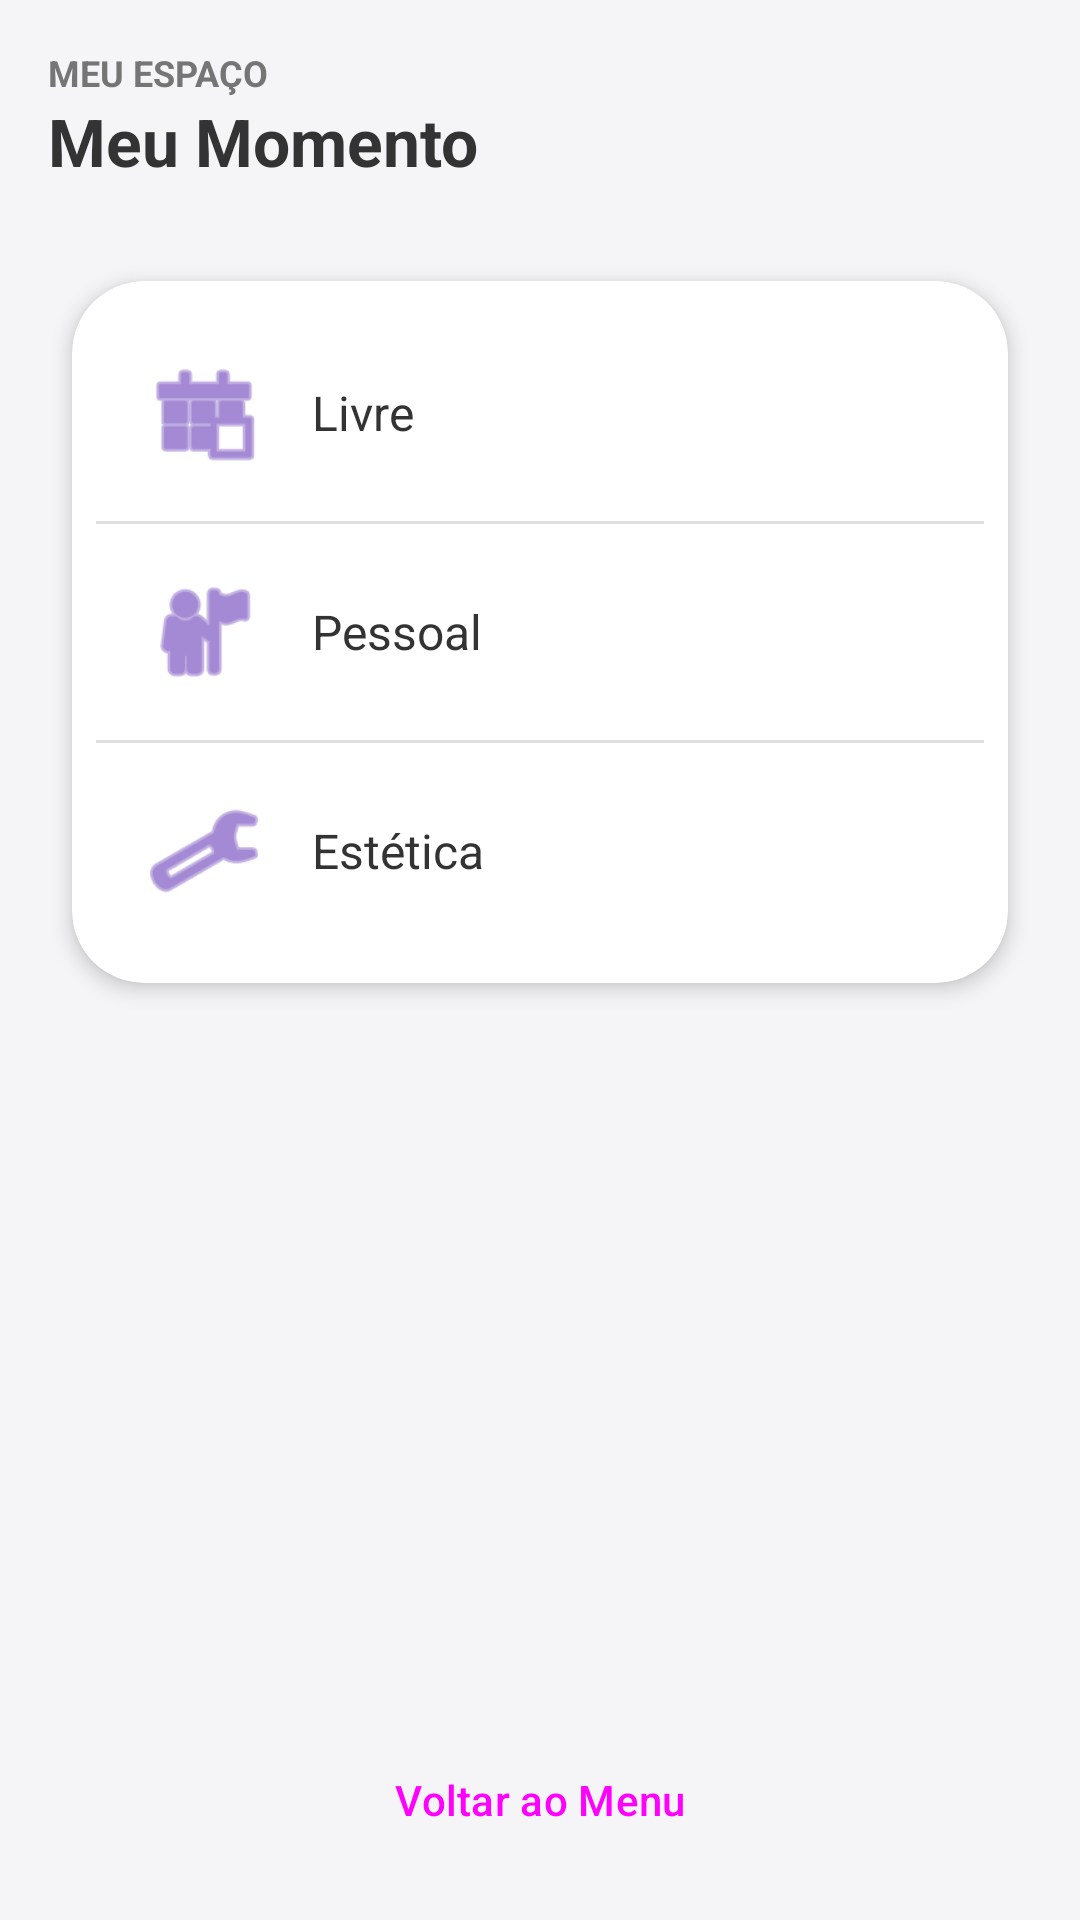

Named icons in this screenshot (1080 x 1920) and their bounding boxes, bbox=[x1, y1, x2, y2]:
manage: bbox=[150, 810, 258, 892]
myplaces: bbox=[160, 587, 250, 677]
today: bbox=[156, 369, 254, 461]
